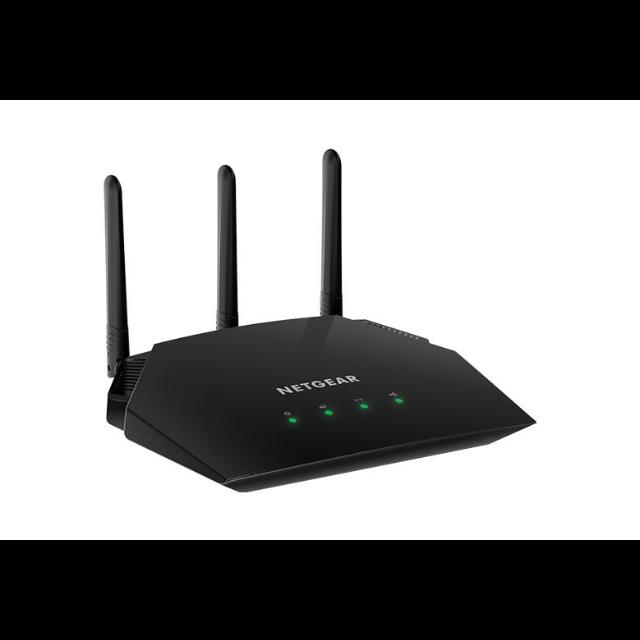Router: (94, 148, 540, 497)
